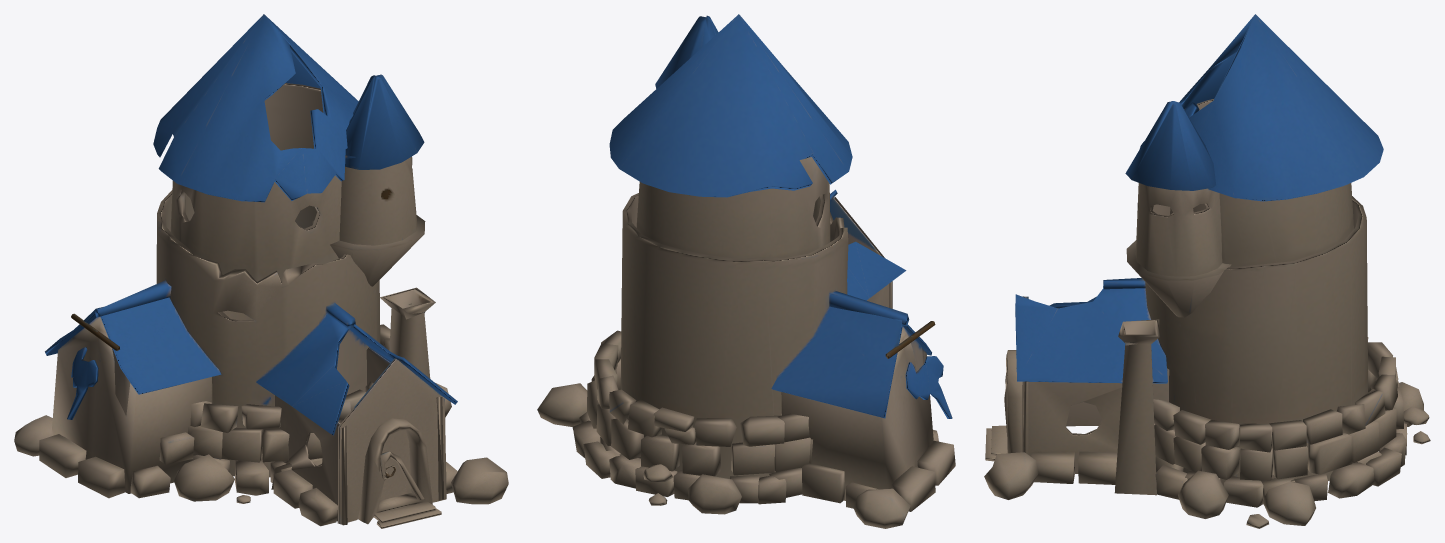
Rendered from meshy-c-d2b.glb.
3 renders of one model, left to right at view 1: azimuth 30°, elevation 25°; view 2: azimuth 150°, elevation 25°; view 3: azimuth 270°, elevation 25°, orthographic. The views are drawn at different scales.
Bounding box in the file's own units: 0.9563 × 1 × 0.9459.
1 material, 1 textured.
